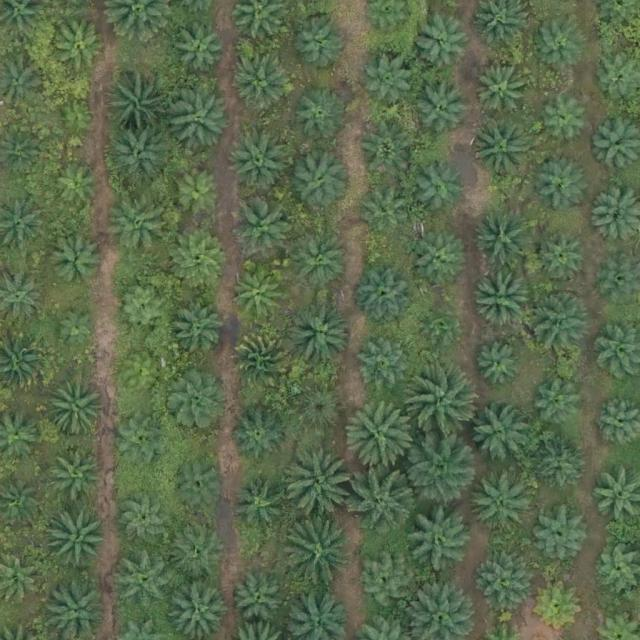Healthy: (409, 368, 479, 439), (405, 436, 475, 507), (405, 505, 476, 575), (349, 465, 420, 535), (283, 451, 353, 522), (280, 522, 351, 592), (347, 400, 417, 470), (472, 269, 535, 332), (469, 470, 532, 533), (355, 265, 418, 328), (165, 370, 228, 433), (169, 226, 232, 289), (289, 146, 352, 209), (526, 290, 588, 353), (469, 404, 531, 467), (288, 301, 350, 364), (47, 375, 109, 438), (111, 126, 173, 189), (109, 197, 171, 260), (171, 86, 233, 149), (231, 194, 293, 257), (233, 53, 295, 116), (228, 132, 290, 195), (288, 229, 350, 292), (472, 120, 534, 183), (474, 208, 536, 271), (116, 551, 178, 613), (47, 506, 109, 568), (533, 439, 588, 494), (532, 373, 587, 428), (289, 384, 344, 439), (172, 456, 227, 511), (230, 475, 285, 530), (477, 551, 532, 606), (358, 341, 413, 396), (167, 301, 222, 356), (230, 269, 285, 324), (233, 408, 288, 463), (233, 569, 288, 624), (118, 495, 173, 550), (113, 414, 168, 469), (52, 444, 107, 499), (49, 234, 104, 289), (53, 19, 108, 74), (110, 86, 165, 141), (172, 163, 227, 218), (293, 15, 348, 70), (293, 90, 348, 145), (358, 186, 413, 241), (364, 55, 419, 110), (360, 126, 415, 181), (413, 19, 468, 74), (416, 83, 471, 138), (411, 163, 466, 218), (535, 231, 590, 286), (535, 157, 590, 212), (532, 15, 587, 70), (172, 24, 226, 80), (532, 508, 586, 563), (360, 557, 414, 612), (171, 524, 225, 579), (415, 236, 469, 291), (476, 66, 530, 121), (540, 92, 594, 147)
Small: (116, 282, 171, 337), (56, 95, 103, 143), (54, 305, 101, 352), (476, 342, 523, 389), (54, 160, 101, 207), (420, 307, 459, 346)
Yellow: (234, 330, 296, 392), (111, 353, 165, 408), (537, 584, 584, 631)
